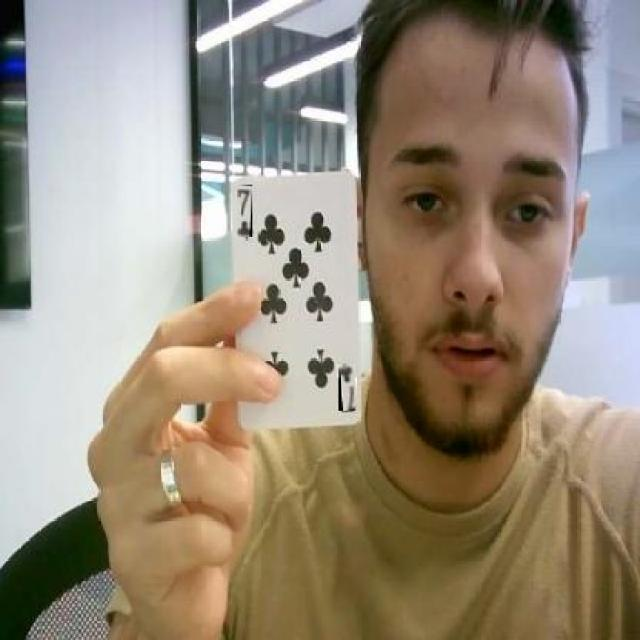7C: (338, 364, 356, 410), (237, 185, 252, 238)
